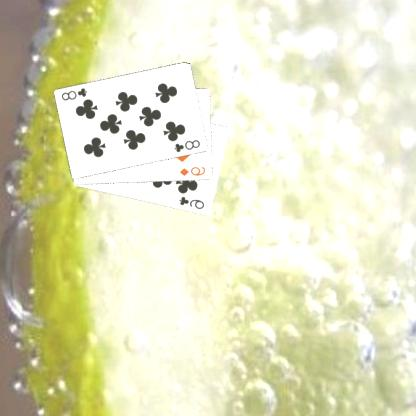6D: (179, 164, 209, 177)
8C: (174, 137, 204, 154), (60, 85, 90, 102)
9C: (178, 194, 207, 211)
